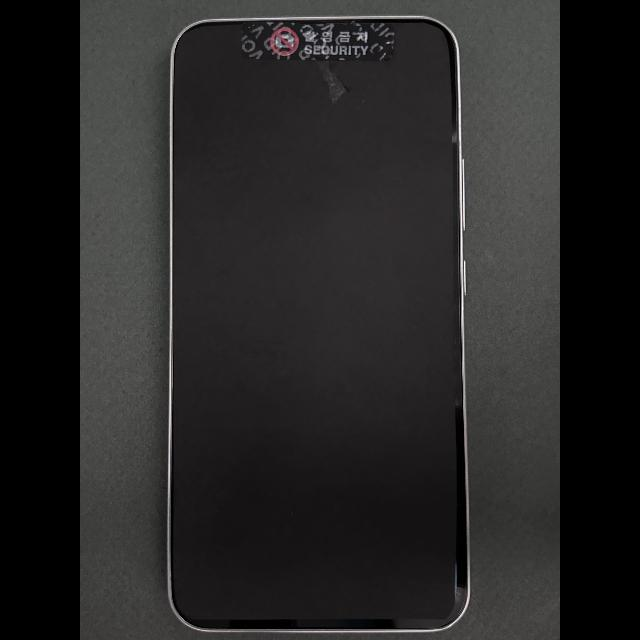phone: (168, 15, 471, 633)
sticker: (242, 21, 395, 62)
